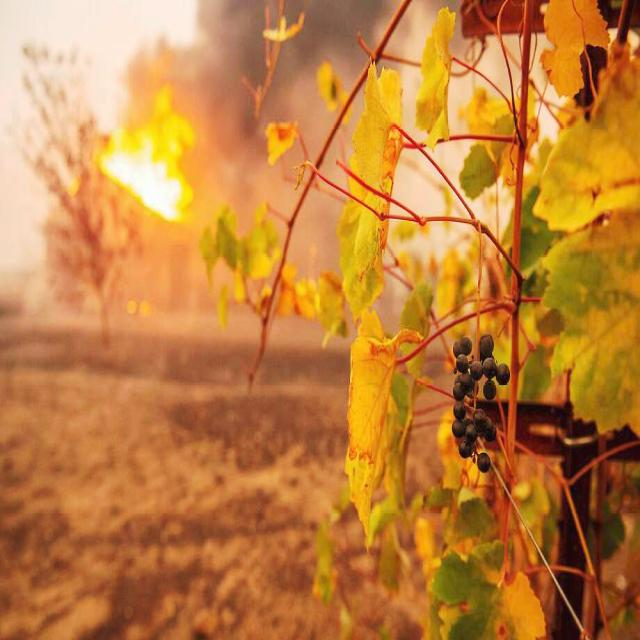api: (88, 97, 214, 235)
asap: (114, 1, 428, 182)
